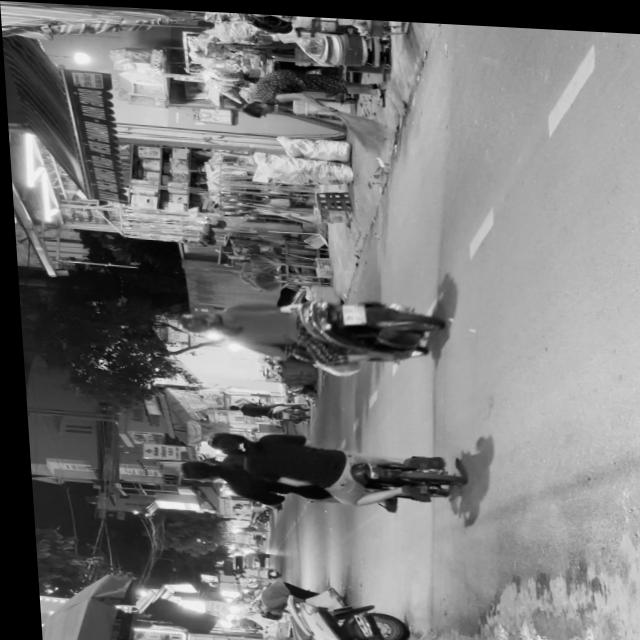helmet: (169, 306, 214, 332)
licenseplate: (166, 424, 461, 512), (165, 282, 443, 373)
motorcyclist: (196, 427, 243, 452), (170, 454, 214, 478)
nohelmet: (336, 298, 361, 320)
